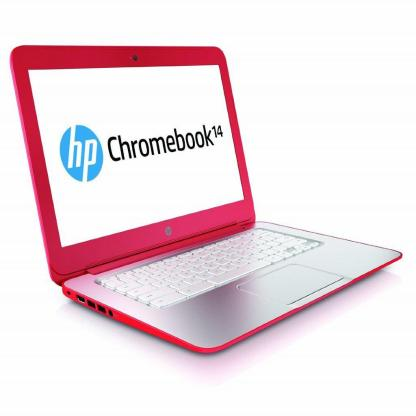board: (9, 44, 402, 356)
